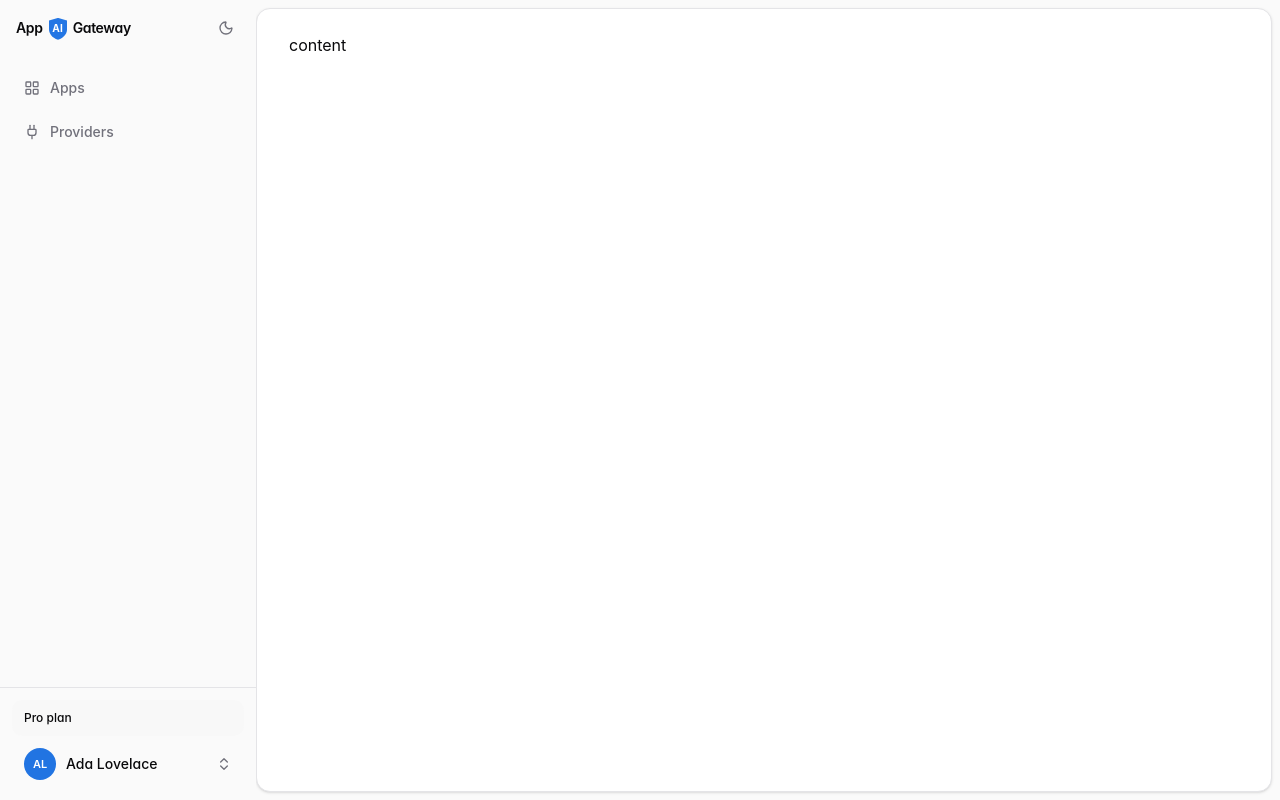
Scenario: AppShell navigation › shows billing in the user menu when the capability is present
The width and height of the screenshot is (1280, 800).
Step 1. Click the button "AL Ada Lovelace" → point(128, 764), box [12,740,244,788]
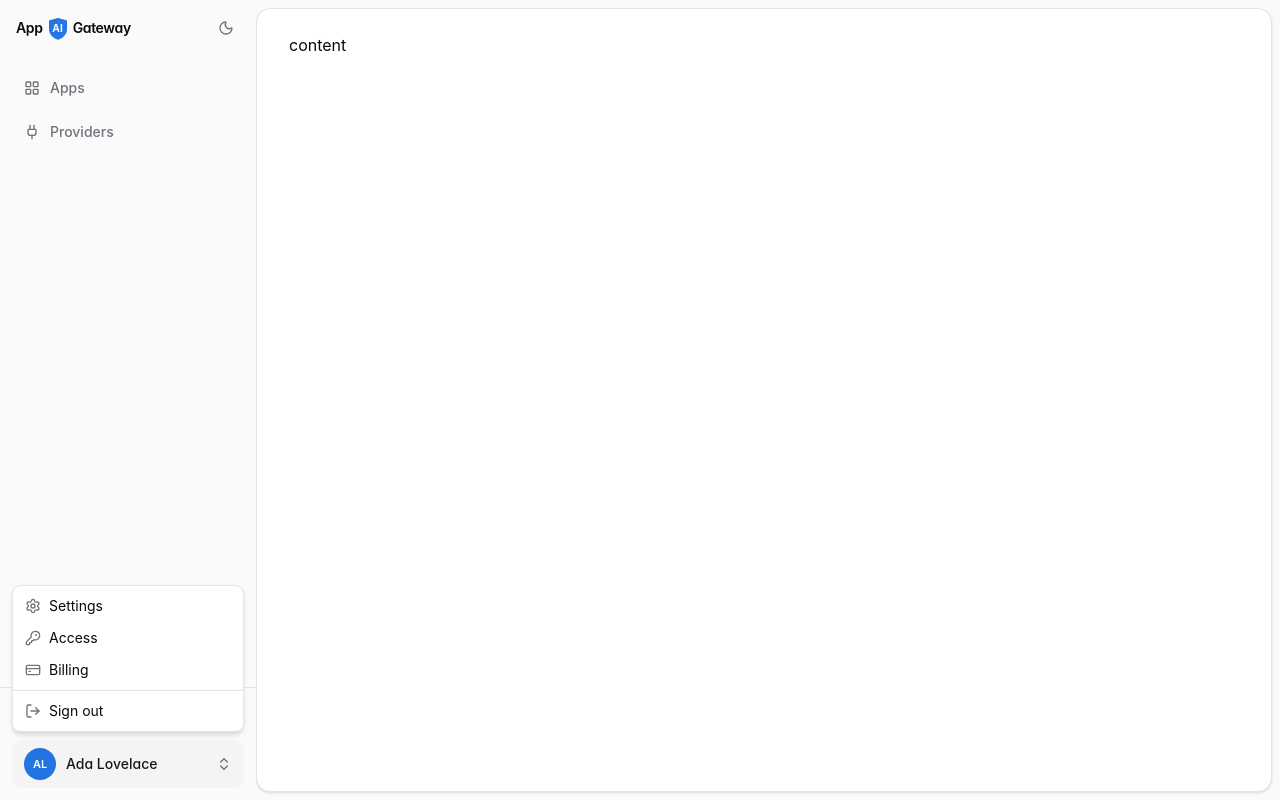
Check: the menu item "Billing" is shown, box [25,661,89,678]
